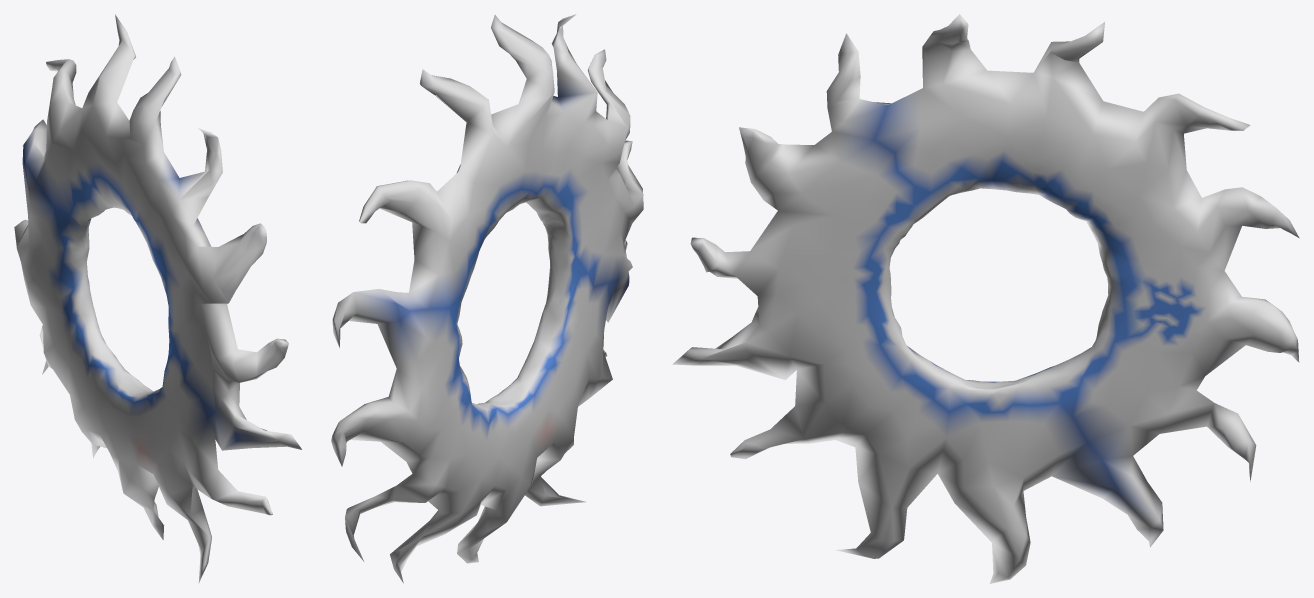
File: sawblade0Damage.dae
The picture shows the model from 3 angles, left to right: view 1: azimuth 30°, elevation 25°; view 2: azimuth 150°, elevation 25°; view 3: azimuth 270°, elevation 25°; orthographic projection. The views are drawn at different scales.
Parts seen in each view (by area): view 1: Model; view 2: Model; view 3: Model.
Boxes of the visible parts, left/top/right/bottom form: Model: left=14, top=14, right=301, bottom=583; Model: left=331, top=14, right=643, bottom=583; Model: left=672, top=14, right=1299, bottom=583.
Size of the model in its own units: 0.937 by 7.46 by 7.46.
